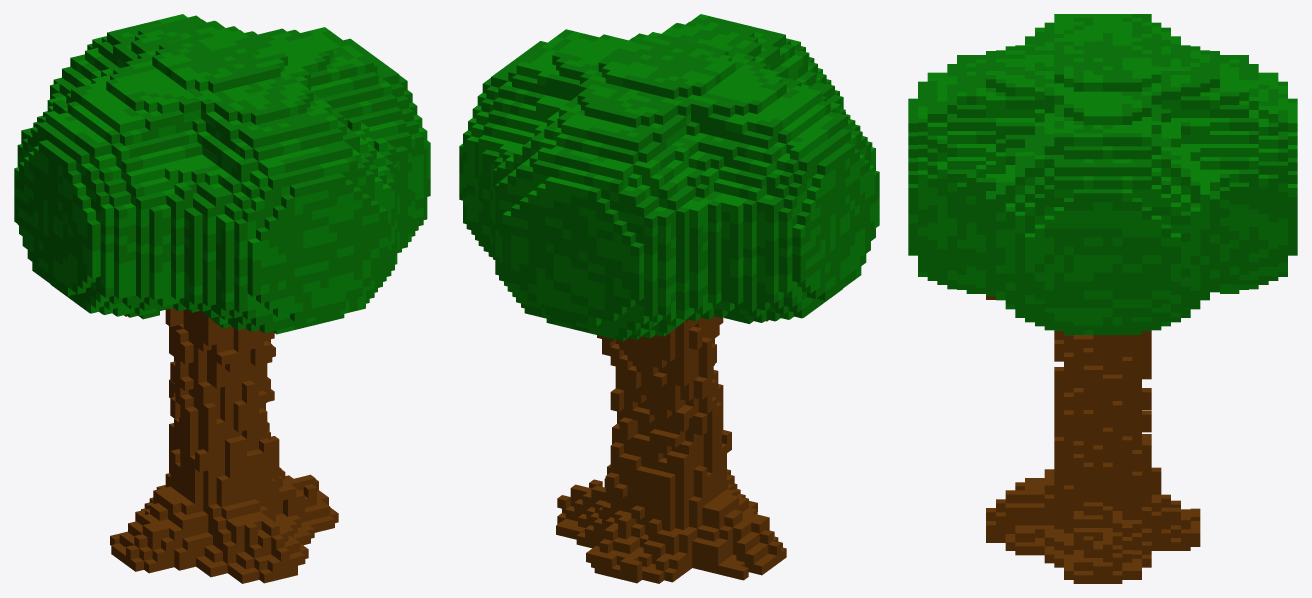
File: game_tree.glb
3 renders of one model, left to right at view 1: azimuth 30°, elevation 25°; view 2: azimuth 150°, elevation 25°; view 3: azimuth 270°, elevation 25°, orthographic.
Parts seen in each view (by area): view 1: Node1; view 2: Node1; view 3: Node1.
Part boxes in pixels (bbox=[...]): Node1: bbox=[14, 14, 430, 583]; Node1: bbox=[459, 14, 879, 583]; Node1: bbox=[908, 14, 1297, 583].
Bounding box in the file's own units: 4 × 5.4 × 4.
Materials: 1 (1 with a texture image).
